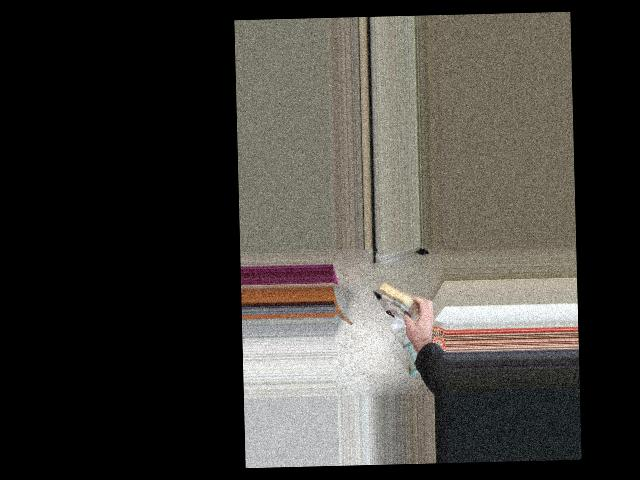cheese: (363, 272, 440, 334)
